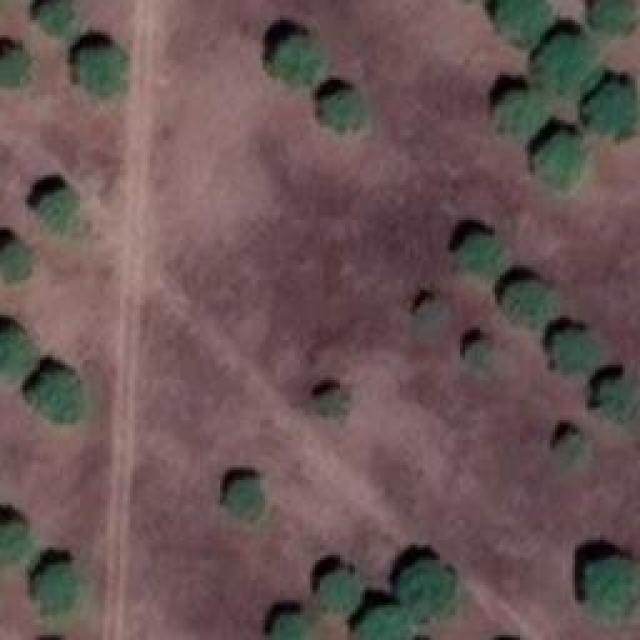Tree: (575, 557, 640, 615), (538, 130, 591, 188), (397, 558, 455, 611), (538, 35, 593, 90), (583, 85, 636, 138), (0, 322, 42, 387), (75, 45, 128, 95), (453, 232, 506, 280), (30, 560, 78, 613), (495, 0, 550, 45), (273, 35, 323, 83), (30, 370, 80, 418), (548, 333, 601, 378), (500, 280, 555, 320), (318, 570, 363, 618), (35, 188, 83, 231), (493, 93, 543, 133), (592, 378, 640, 418), (318, 93, 358, 136), (357, 607, 407, 640), (593, 0, 638, 35), (223, 478, 258, 521), (0, 517, 32, 564), (2, 43, 30, 88), (275, 610, 315, 640), (415, 300, 455, 328), (0, 235, 25, 275), (460, 340, 493, 370), (40, 0, 73, 30), (552, 432, 580, 460), (325, 388, 348, 413)
